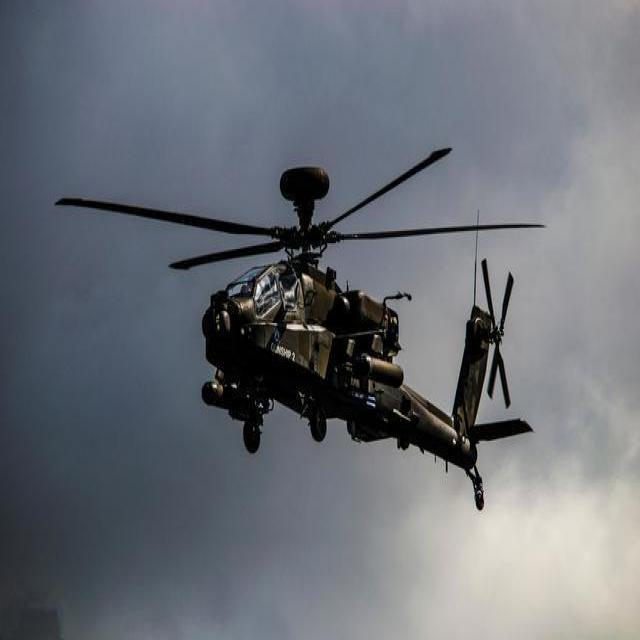MIL_HELO: (48, 141, 574, 526)
